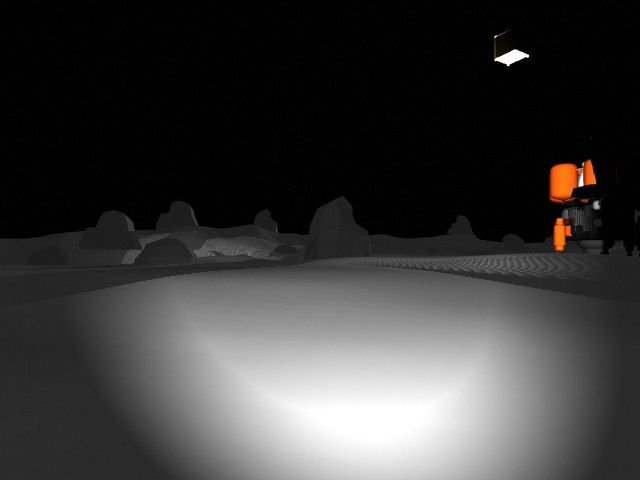cubesat: (491, 23, 532, 75)
